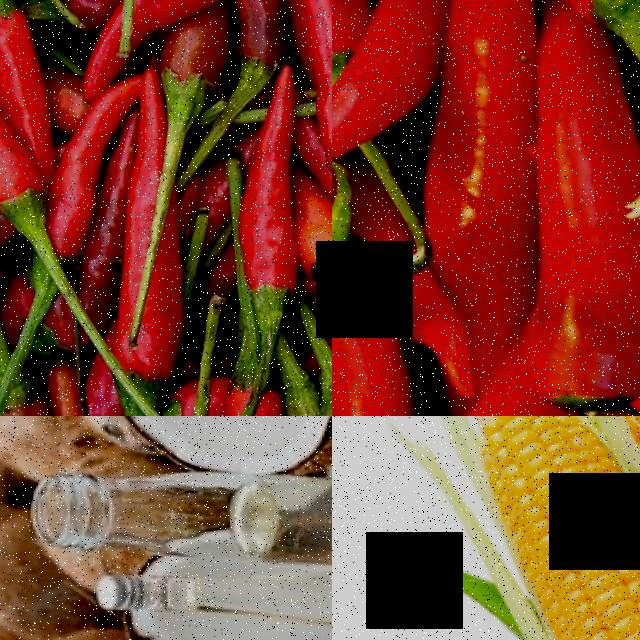chilli: (520, 31, 640, 416), (407, 0, 539, 300), (105, 83, 186, 409), (228, 71, 310, 330), (332, 222, 410, 416), (38, 101, 115, 275), (285, 0, 332, 196), (0, 105, 49, 218), (212, 353, 291, 416), (0, 0, 42, 116), (127, 0, 272, 32)
coconut: (106, 416, 332, 476), (114, 617, 332, 640)
corn: (470, 416, 640, 613)
